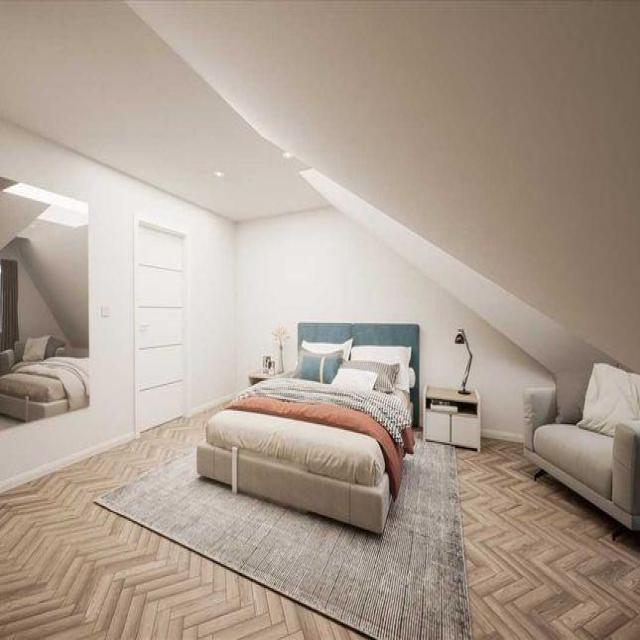Wall: (0, 1, 640, 389), (0, 120, 554, 490), (0, 412, 640, 639)
